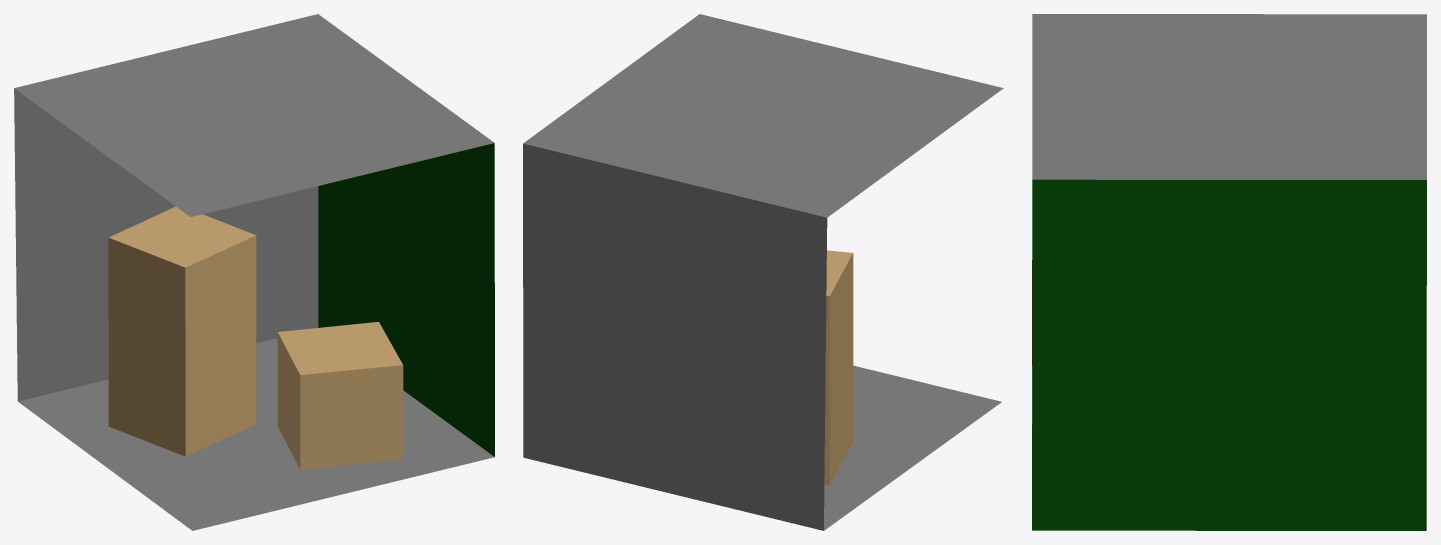
The picture shows the model from 3 angles, left to right: view 1: azimuth 30°, elevation 25°; view 2: azimuth 150°, elevation 25°; view 3: azimuth 270°, elevation 25°; orthographic projection. The views are drawn at different scales.
Parts seen in each view (by area): view 1: ceiling, right_wall, back_wall, tall_box, floor, short_box; view 2: back_wall, ceiling, floor, tall_box; view 3: right_wall, ceiling.
Part boxes in pixels (<box>): ceiling: <box>14,14,494,216</box>; right_wall: <box>318,143,494,456</box>; back_wall: <box>14,88,318,401</box>; tall_box: <box>108,206,256,456</box>; floor: <box>18,338,494,530</box>; short_box: <box>277,322,403,469</box>; back_wall: <box>523,143,827,530</box>; ceiling: <box>523,14,1003,217</box>; floor: <box>824,365,1001,530</box>; tall_box: <box>824,250,853,484</box>; right_wall: <box>1032,179,1426,530</box>; ceiling: <box>1032,14,1426,179</box>.
Size of the model in its own units: 5.56 by 5.49 by 5.6.
